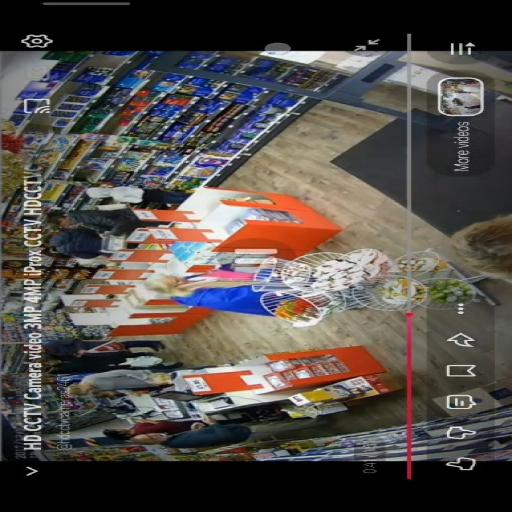workers: (145, 270, 309, 318), (69, 364, 210, 402), (448, 214, 512, 284), (39, 337, 171, 370), (128, 422, 258, 450), (41, 228, 137, 261), (52, 204, 147, 235), (101, 408, 213, 434), (81, 183, 159, 212)
